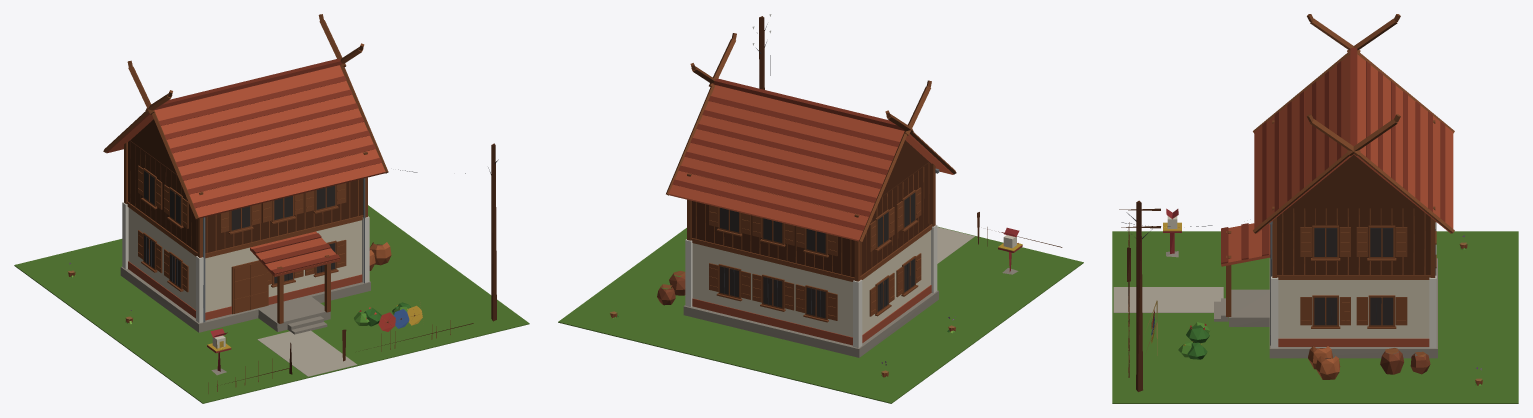
File: home_2.glb
3 views of the same model, side by side, from view 1: azimuth 30°, elevation 25°; view 2: azimuth 150°, elevation 25°; view 3: azimuth 270°, elevation 25° (orthographic). The views are drawn at different scales.
Visible parts, largest first — view 1: body, windows; view 2: body, windows; view 3: body, windows.
Boxes of the visible parts, x1,y1,x2,y2 form: body: [14, 14, 529, 403]; windows: [144, 170, 335, 287]; body: [558, 14, 1083, 403]; windows: [720, 192, 915, 318]; body: [1112, 14, 1518, 403]; windows: [1314, 228, 1393, 325].
Size of the model in its own units: 15.9 by 11.03 by 15.9.
